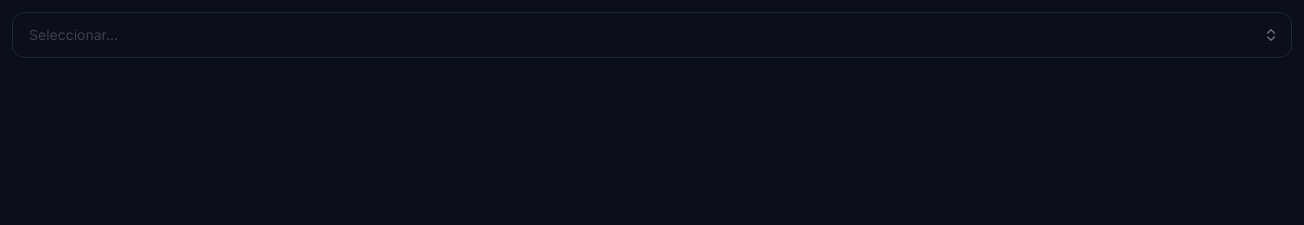
Scenario: SmartCombobox › agrupa opciones cuando tienen campo grupo
Click the button. click: (1277, 35)
box: [1263,13,1291,57]
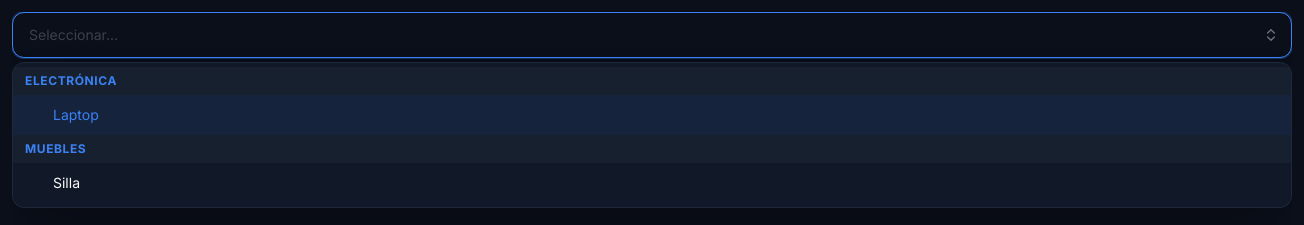
Expected: the text "Electrónica" is shown, [13,67,1291,95]
Expected: the text "Muebles" is shown, [13,135,1291,163]
